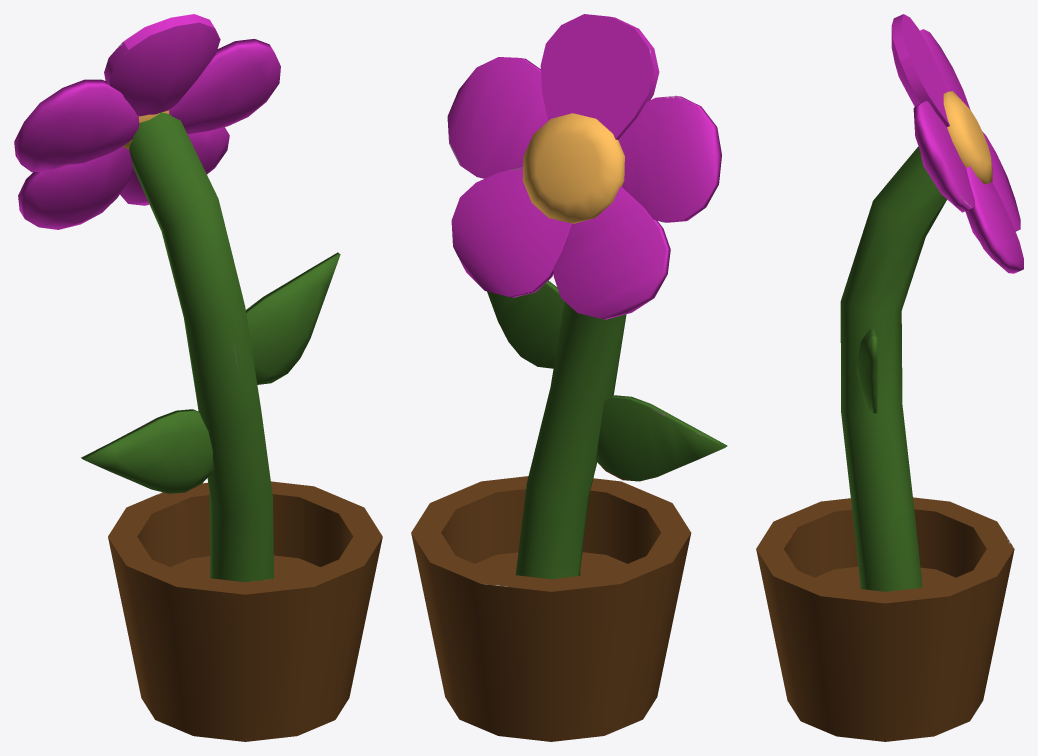
Rendered from flower_plant.fbx.
The picture shows the model from 3 angles, left to right: view 1: azimuth 30°, elevation 25°; view 2: azimuth 150°, elevation 25°; view 3: azimuth 270°, elevation 25°; orthographic projection. The views are drawn at different scales.
Visible parts, largest first — view 1: flower_plant; view 2: flower_plant; view 3: flower_plant.
Part boxes in pixels (x1,y1,x2,y2): flower_plant: (14, 14, 382, 741); flower_plant: (411, 14, 727, 741); flower_plant: (756, 14, 1023, 741).
Size of the model in its own units: 1.44 by 3.02 by 1.13.
